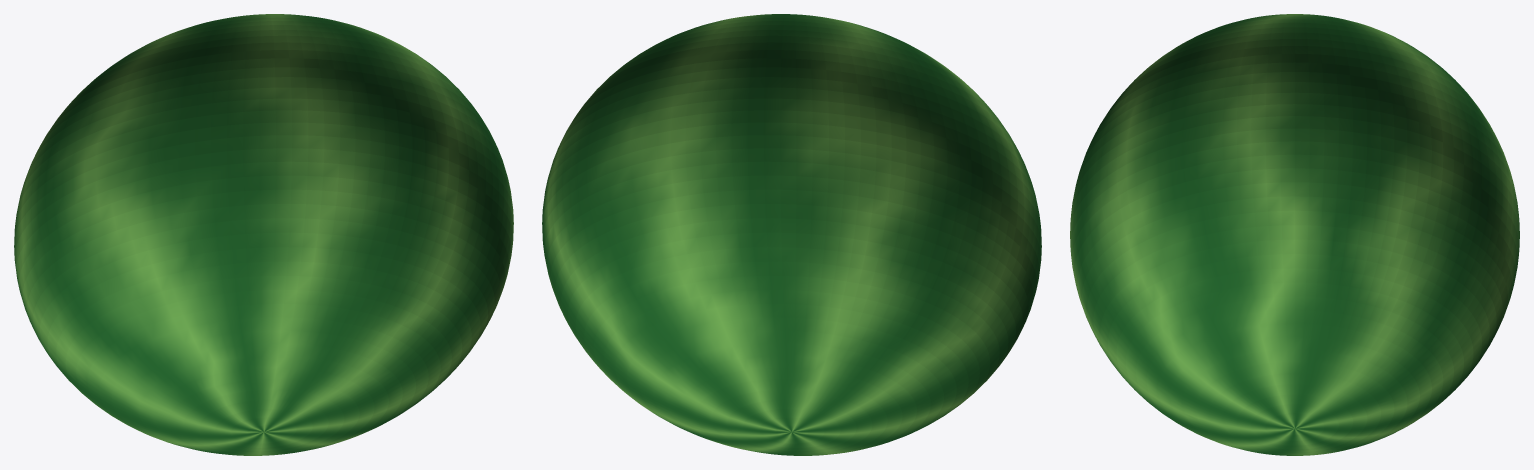
The model's file is watermelon.glb.
3 renders of one model, left to right at view 1: azimuth 30°, elevation 25°; view 2: azimuth 150°, elevation 25°; view 3: azimuth 270°, elevation 25°, orthographic.
Size of the model in its own units: 2.24 by 1.9 by 2.
